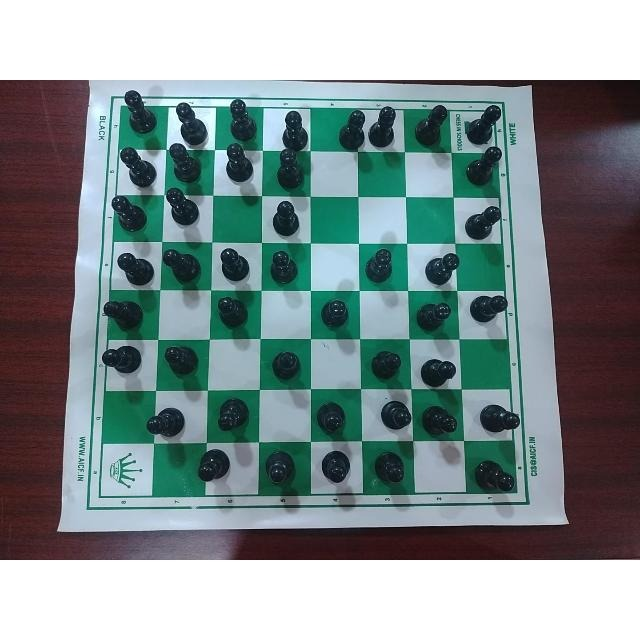black-pawn: (143, 400, 193, 440), (472, 453, 520, 494), (119, 88, 159, 136), (413, 102, 449, 154), (421, 396, 463, 440), (164, 142, 205, 186), (224, 94, 260, 144), (109, 192, 151, 234), (115, 148, 159, 188), (478, 398, 522, 438), (418, 347, 460, 388), (465, 101, 504, 145), (465, 145, 504, 189), (102, 295, 146, 334), (101, 342, 145, 381), (115, 246, 157, 286), (173, 100, 209, 146), (162, 187, 203, 227), (197, 446, 237, 486), (463, 200, 502, 240), (370, 448, 409, 488), (367, 347, 407, 385), (369, 103, 401, 150), (422, 249, 461, 287), (161, 343, 200, 381), (375, 395, 414, 433), (214, 395, 251, 435), (467, 293, 508, 329), (162, 246, 202, 282), (314, 395, 350, 435), (262, 447, 298, 487), (270, 197, 304, 239), (364, 247, 401, 285), (267, 347, 306, 383), (276, 108, 311, 148), (220, 143, 255, 183), (335, 108, 366, 152), (320, 448, 354, 488), (218, 246, 254, 282), (415, 296, 452, 331), (267, 246, 300, 285), (275, 148, 307, 188), (214, 295, 251, 329), (319, 294, 353, 330)
